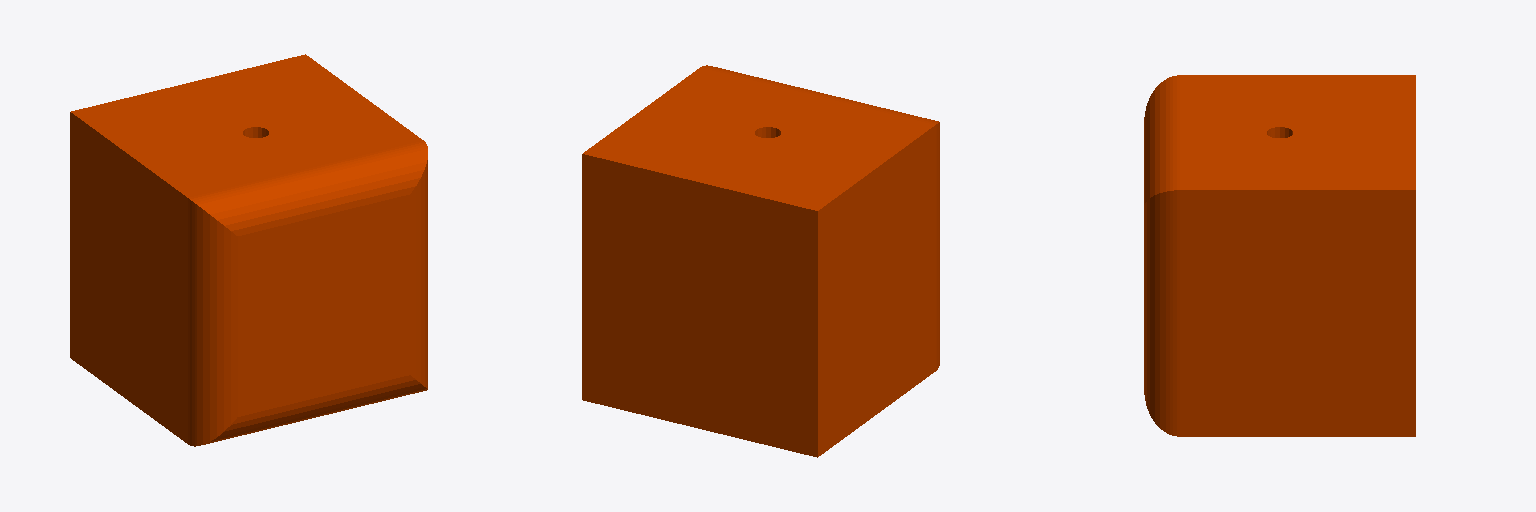
Rendered from engine.obj.
The picture shows the model from 3 angles: view 1: azimuth 30°, elevation 25°; view 2: azimuth 150°, elevation 25°; view 3: azimuth 270°, elevation 25°; orthographic projection.
Parts seen in each view (by area): view 1: Bryła4; view 2: Bryła4; view 3: Bryła4.
Part boxes in pixels (left/top/right/bottom): Bryła4: left=70, top=54, right=427, bottom=446; Bryła4: left=582, top=65, right=939, bottom=457; Bryła4: left=1144, top=75, right=1415, bottom=436.
Size of the model in its own units: 15 by 15 by 15.